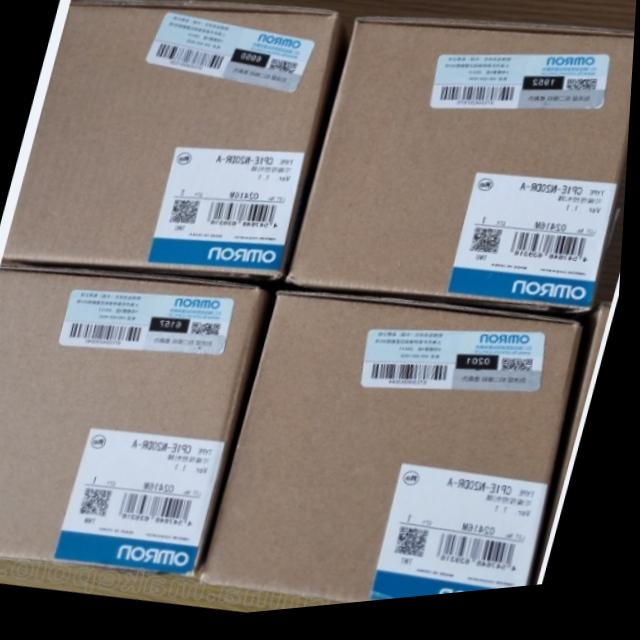box: (206, 299, 585, 610), (286, 23, 636, 326), (6, 0, 341, 285), (0, 262, 271, 582)
